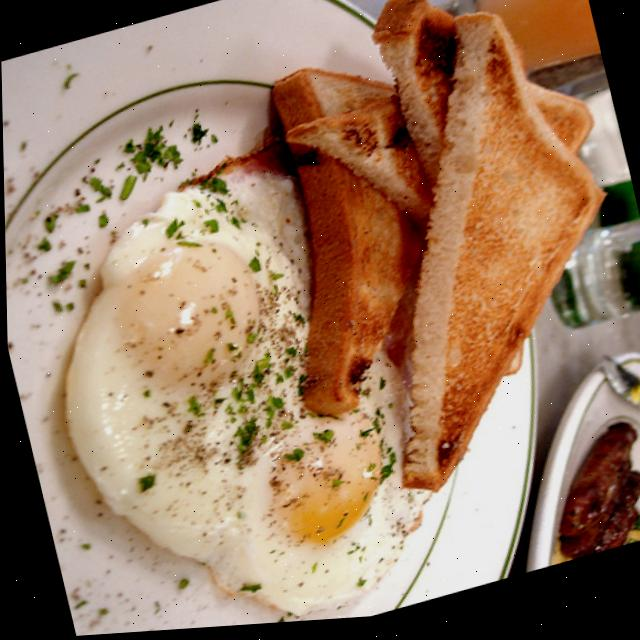面包点心: (235, 0, 640, 515)
鸡蛋料理: (30, 146, 422, 639)
